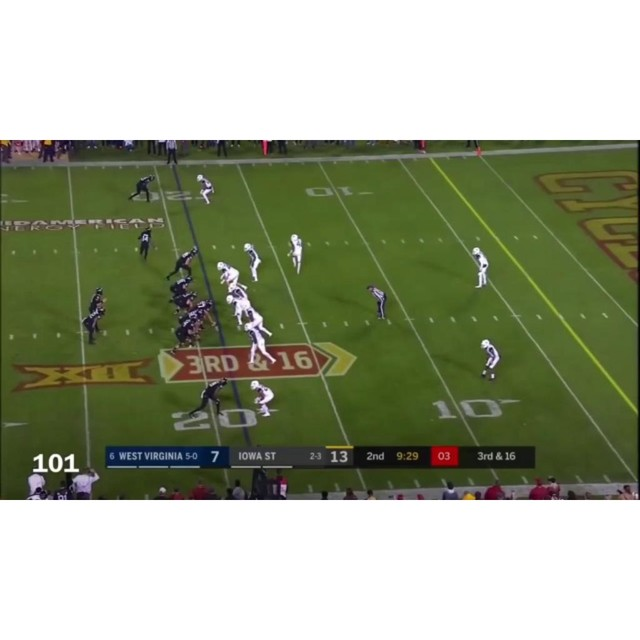american-football-player: (188, 376, 228, 420), (244, 320, 276, 369), (164, 247, 198, 282), (242, 302, 273, 339), (81, 302, 106, 345), (171, 318, 200, 353), (250, 380, 275, 418), (480, 338, 501, 381), (128, 174, 155, 204), (471, 247, 489, 289), (171, 291, 198, 318), (244, 243, 261, 282), (168, 276, 194, 301), (216, 261, 240, 287), (288, 234, 303, 274), (196, 174, 214, 205), (137, 226, 152, 262)
referee: (366, 283, 390, 324), (165, 140, 178, 166)
